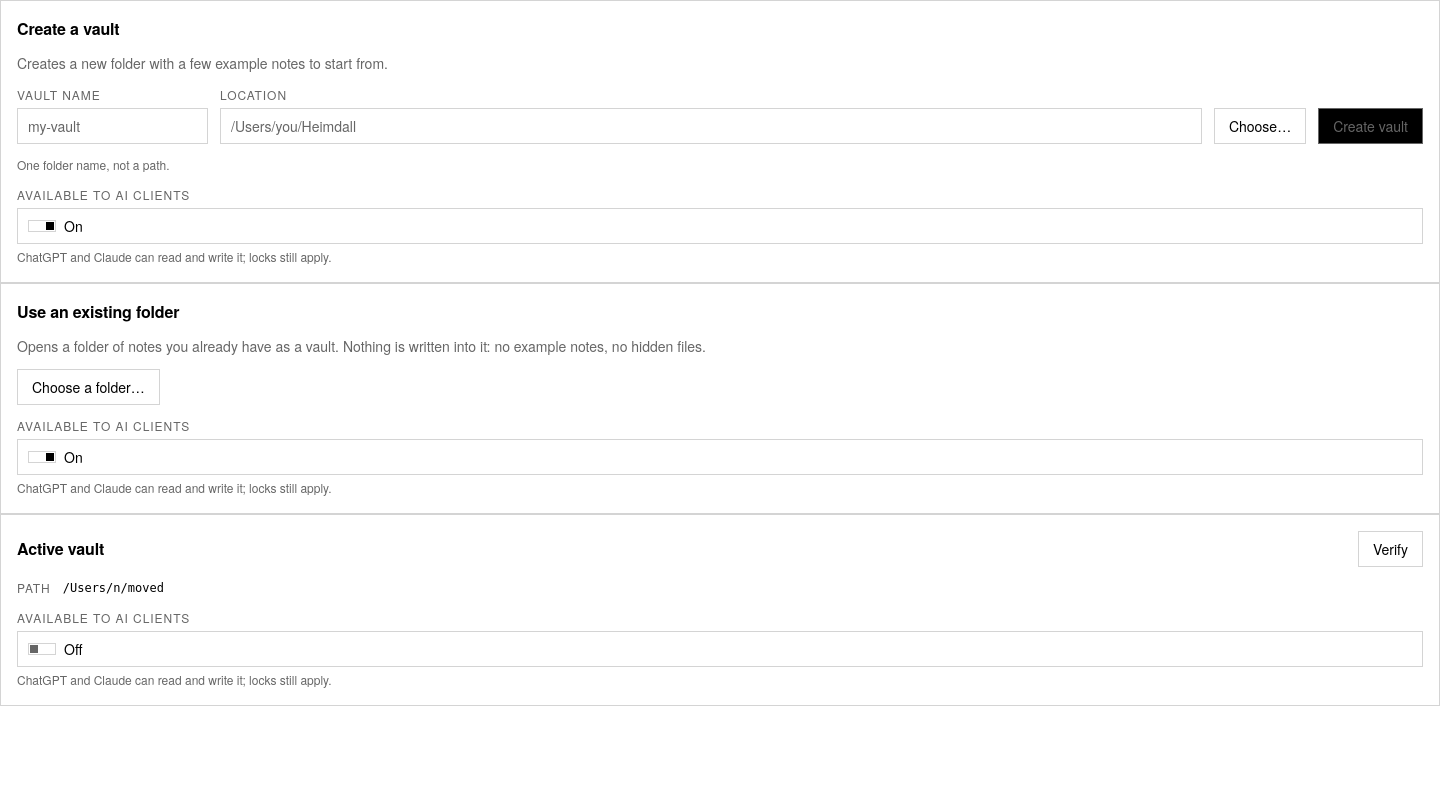
Setup › surfaces a vault that cannot be read with the message the CLI gives
Step 1. Click the button "Verify" → (1390, 549), box x1=1358 y1=531 x2=1423 y2=567
(page scrolled)
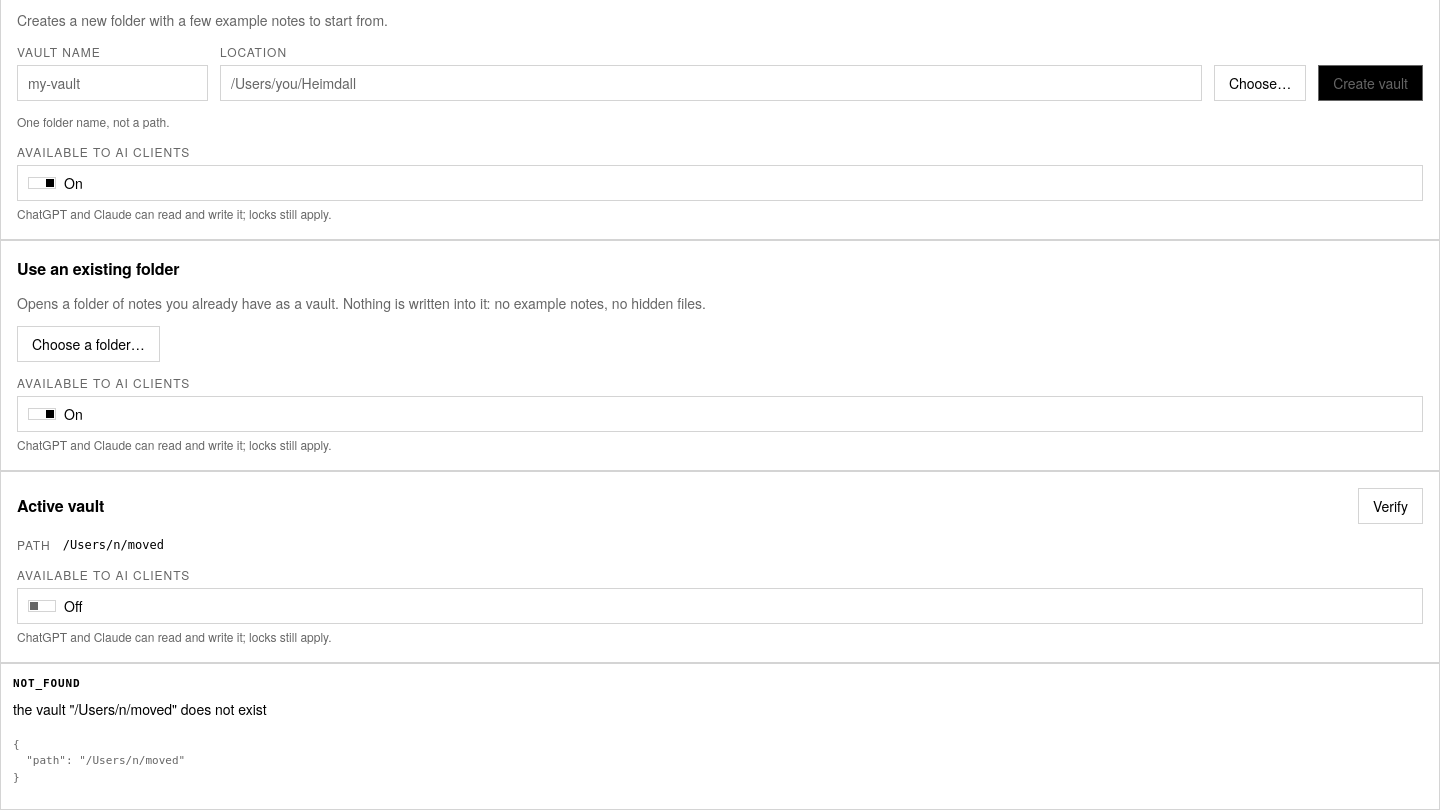
Check: the message shows "NOT_FOUND", box x1=13 y1=677 x2=80 y2=690
Check: the message shows "does not exist", box x1=13 y1=698 x2=267 y2=718
